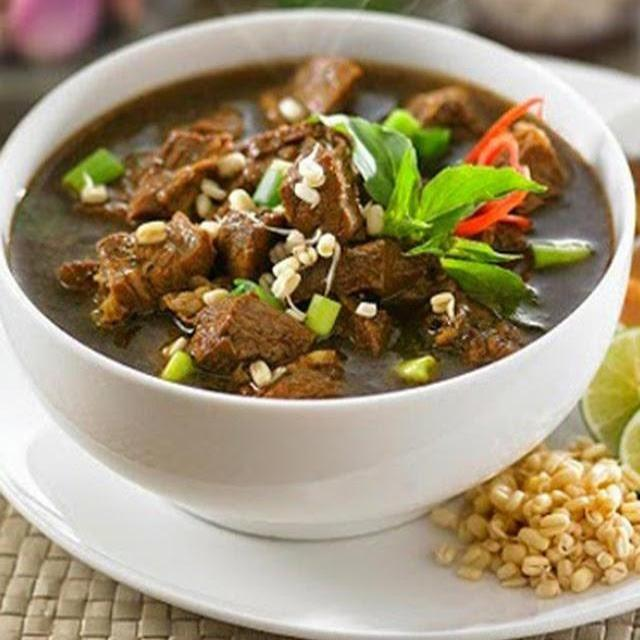Rawon: (18, 45, 604, 380)
